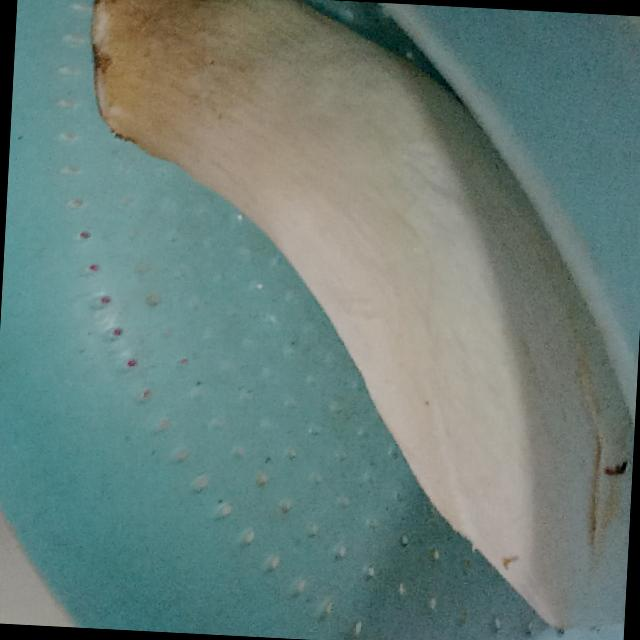Pleurotus eryngii: (62, 0, 640, 633)
